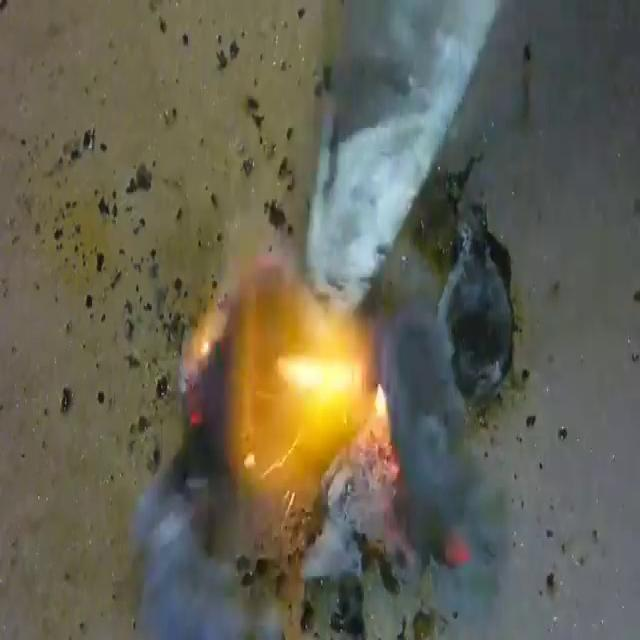Fire: (183, 250, 389, 532)
